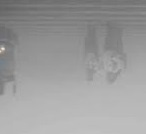person: (101, 26, 129, 83), (80, 24, 103, 82)
